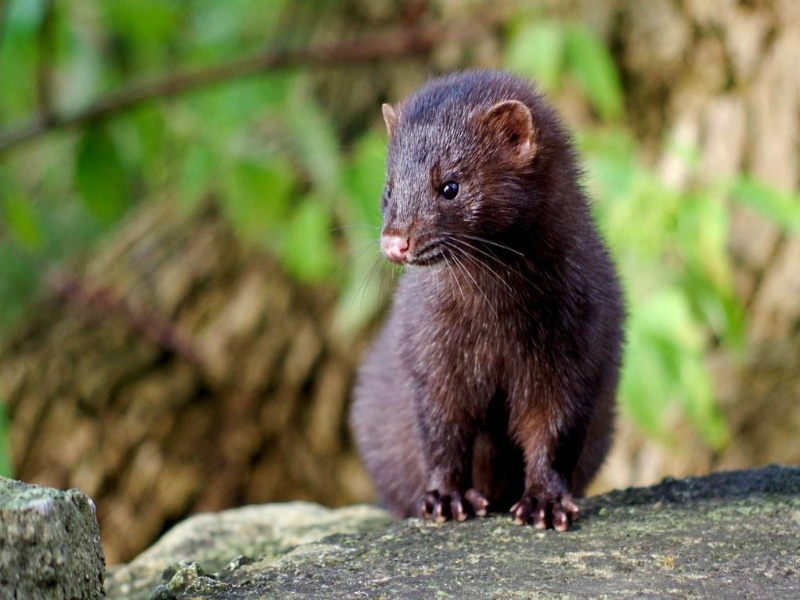minkish: (344, 70, 638, 535)
